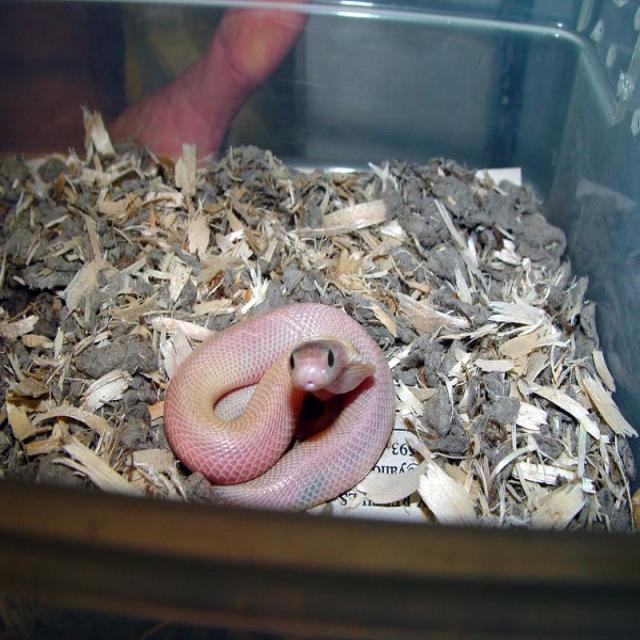Snake: (162, 300, 396, 512)
